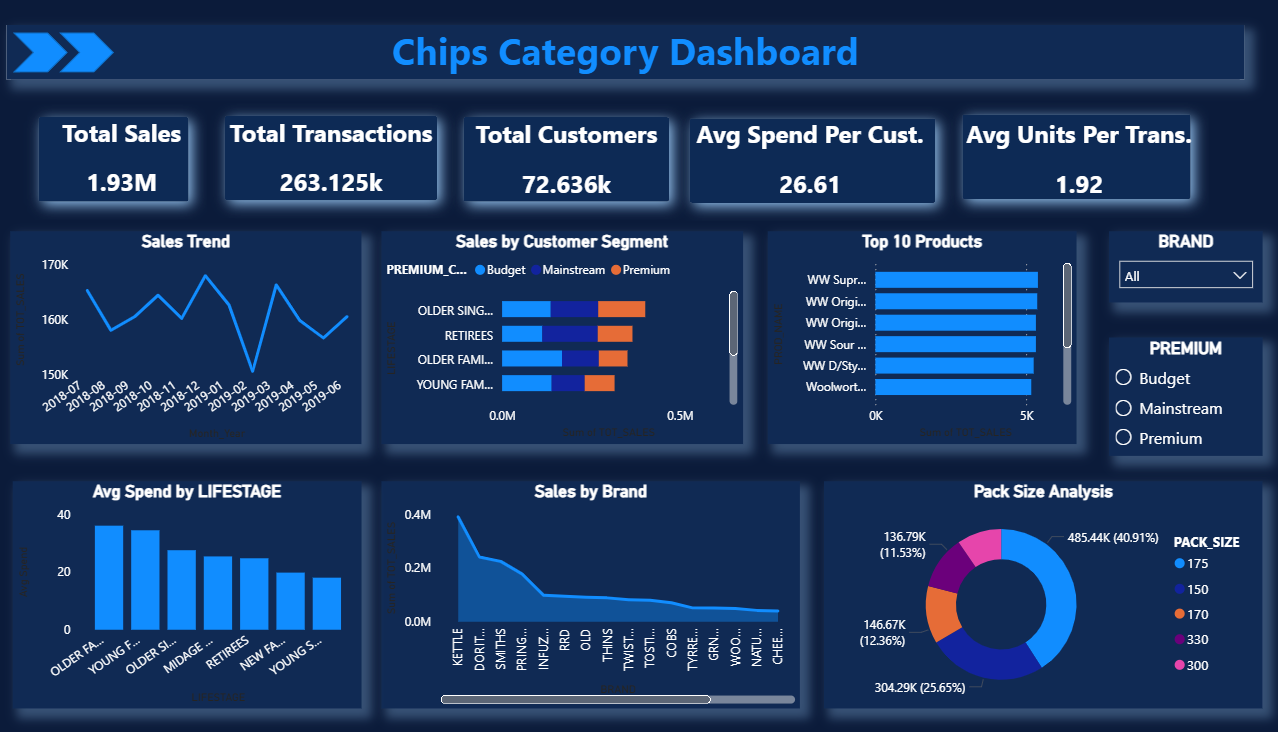

This screenshot's page, from the dashboard's own definition file:
{"tool":"powerbi","page":{"name":"Page 1","canvas":[1280,720],"ordinal":0},"visuals":[{"type":"shape","box":[21.1,73.3,186.7,121.1],"z":0},{"type":"lineChart","title":"Sales Trend","fields":{"Y":["Sum(QVI_data.TOT_SALES)"],"Category":["QVI_data.Month_Year"]},"box":[11.4,205.7,351.4,212.9],"z":2000},{"type":"barChart","title":"Sales by Customer Segment","fields":{"Category":["QVI_data.LIFESTAGE"],"Y":["Sum(QVI_data.TOT_SALES)"],"Series":["QVI_data.PREMIUM_CUSTOMER"]},"box":[382.5,206.2,361.2,212.5],"z":3000},{"type":"areaChart","title":"Sales by Brand","fields":{"Category":["QVI_data.BRAND"],"Y":["Sum(QVI_data.TOT_SALES)"]},"box":[382.5,456.2,418.8,227.5],"z":4000},{"type":"donutChart","title":"Pack Size Analysis","fields":{"Category":["QVI_data.PACK_SIZE"],"Y":["Sum(QVI_data.TOT_SALES)"]},"box":[825,456.2,438.8,227.5],"z":5000},{"type":"columnChart","fields":{"Category":["QVI_data.LIFESTAGE"],"Y":["QVI_data.Avg Spend"]},"box":[13.8,456.2,348.8,227.5],"z":6000},{"type":"barChart","title":"Top 10 Products","fields":{"Category":["QVI_data.PROD_NAME"],"Y":["Sum(QVI_data.TOT_SALES)"]},"box":[768.8,206.2,308.8,212.5],"z":7000},{"type":"listSlicer","title":"PREMIUM","fields":{"Values":["QVI_data.PREMIUM_CUSTOMER"]},"box":[1110,312.5,153.8,118.8],"z":9000},{"type":"slicer","title":"BRAND","fields":{"Values":["QVI_data.BRAND"]},"box":[1110,206.2,153.8,71.2],"z":10000},{"type":"textbox","title":"Chips Category Dashboard","box":[7.8,0,1237.8,54.4],"z":11000},{"type":"textbox","box":[53.3,86.7,137.8,96.7],"z":12000},{"type":"shape","box":[207.8,72.2,248.9,121.1],"z":13000},{"type":"shape","box":[945,71.2,265,121.2],"z":14000},{"type":"shape","box":[672.2,74.4,282.2,121.1],"z":15000},{"type":"shape","box":[446.7,73.3,242.2,121.1],"z":16000},{"type":"textbox","box":[218.9,86.7,226.7,96.7],"z":17000},{"type":"textbox","box":[660,87.8,302.2,96.7],"z":18000},{"type":"textbox","box":[956.2,87.5,247.5,97.5],"z":19000},{"type":"textbox","box":[462.2,87.8,210,96.7],"z":20000},{"type":"shape","box":[13.8,7.5,55,40],"z":20002},{"type":"shape","box":[60,7.5,55,40],"z":20003}]}

Visuals, with their boxes in screenshot pixels (x1, y1, x2, y2), scaled from the page's 1280x720 canvas onto the 1278x732 screenshot:
shape: <region>21, 75, 207, 198</region>
"Sales Trend" lineChart: <region>11, 209, 362, 426</region>
"Sales by Customer Segment" barChart: <region>382, 210, 743, 426</region>
"Sales by Brand" areaChart: <region>382, 464, 800, 695</region>
"Pack Size Analysis" donutChart: <region>824, 464, 1262, 695</region>
columnChart - QVI_data.LIFESTAGE x QVI_data.Avg Spend: <region>14, 464, 362, 695</region>
"Top 10 Products" barChart: <region>768, 210, 1076, 426</region>
"PREMIUM" listSlicer: <region>1108, 318, 1262, 438</region>
"BRAND" slicer: <region>1108, 210, 1262, 282</region>
"Chips Category Dashboard" textbox: <region>8, 0, 1244, 55</region>
textbox: <region>53, 88, 191, 186</region>
shape: <region>207, 73, 456, 197</region>
shape: <region>944, 72, 1208, 196</region>
shape: <region>671, 76, 953, 199</region>
shape: <region>446, 75, 688, 198</region>
textbox: <region>219, 88, 445, 186</region>
textbox: <region>659, 89, 961, 188</region>
textbox: <region>955, 89, 1202, 188</region>
textbox: <region>461, 89, 671, 188</region>
shape: <region>14, 8, 69, 48</region>
shape: <region>60, 8, 115, 48</region>
